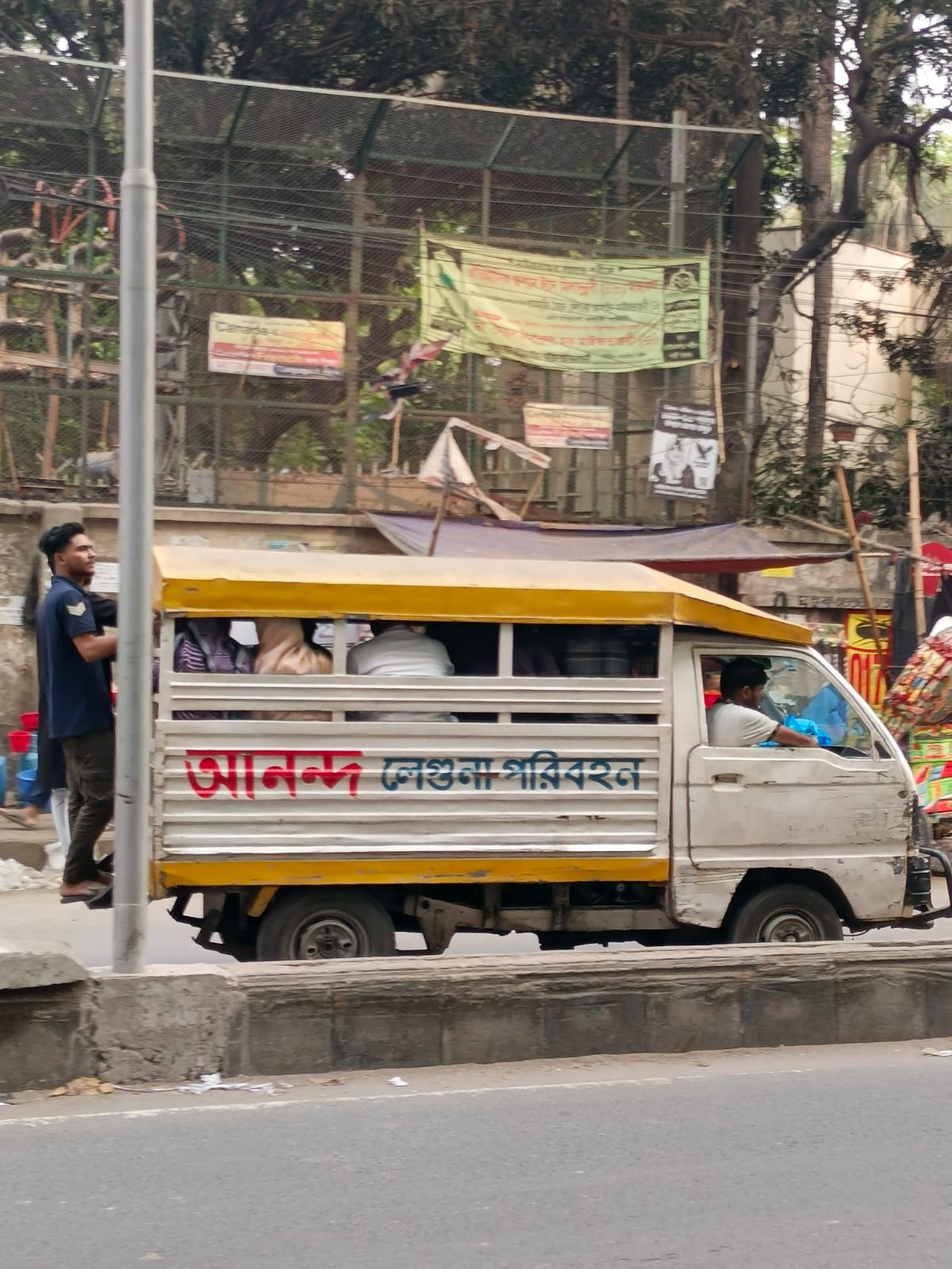Leguna: (91, 517, 952, 980)
